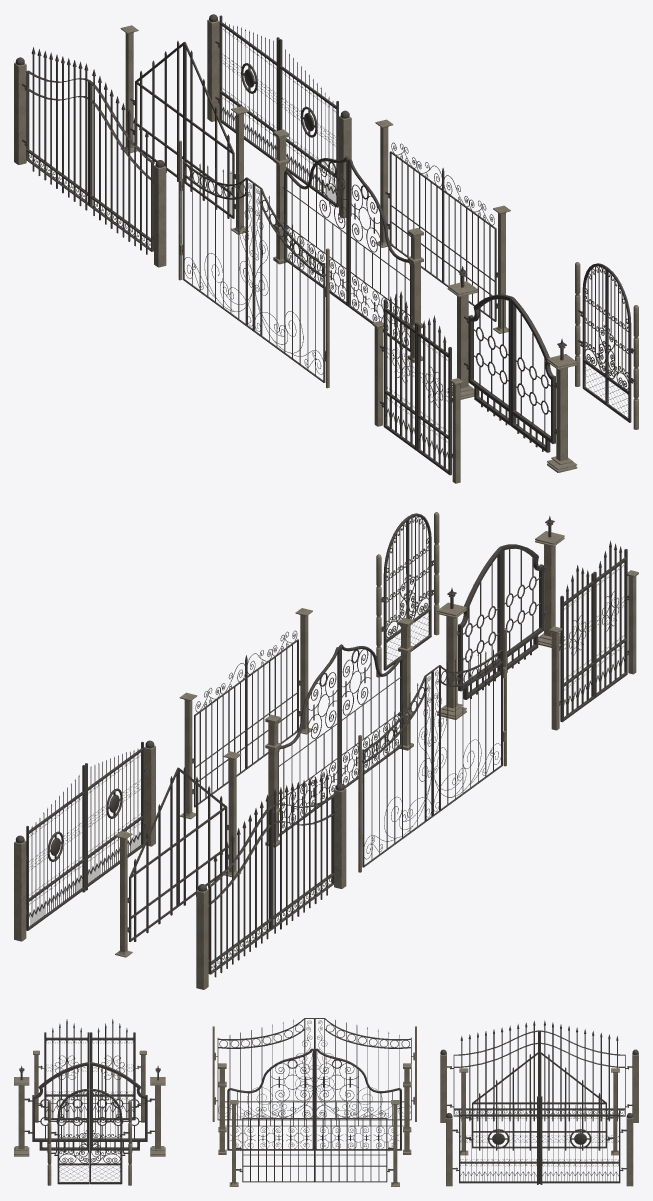
Rendered from gate.glb.
3 views of the same model, one above another, from view 1: azimuth 30°, elevation 25°; view 2: azimuth 150°, elevation 25°; view 3: azimuth 270°, elevation 25° (orthographic). The views are drawn at different scales.
Visible parts, largest first — view 1: Gate_8_1, Gate_8_2, Gate_7_1, Gate_7_2, Gate_6_1, Gate_9_1, Gate_6_2, Gate_9_2, Gate_1_1, Gate_1_2, Gate_3_1, Gate_3_2 (+22 smaller); view 2: Gate_8_2, Gate_8_1, Gate_6_2, Gate_7_2, Gate_6_1, Gate_9_2, Gate_7_1, Gate_9_1, Gate_1_2, Gate_1_1, Gate_3_2, Gate_2_2 (+22 smaller); view 3: Gate_6_2, Gate_6_1, Gate_8_1, Gate_8_2, Gate_1_1, Gate_1_2, Gate_7_1, Gate_7_2, Gate_5_2, Gate_9_1, Gate_9_2, Gate_4_1 (+23 smaller).
Part boxes in pixels (x1=…): Gate_8_1: x1=89, y1=69, x2=153, y2=254; Gate_8_2: x1=24, y1=47, x2=90, y2=210; Gate_7_1: x1=253, y1=183, x2=325, y2=382; Gate_7_2: x1=181, y1=160, x2=254, y2=330; Gate_6_1: x1=278, y1=39, x2=338, y2=207; Gate_9_1: x1=417, y1=315, x2=452, y2=475; Gate_6_2: x1=218, y1=15, x2=279, y2=160; Gate_9_2: x1=381, y1=291, x2=418, y2=450; Gate_1_1: x1=347, y1=159, x2=410, y2=351; Gate_1_2: x1=283, y1=156, x2=348, y2=305; Gate_3_1: x1=511, y1=298, x2=556, y2=452; Gate_3_2: x1=466, y1=294, x2=513, y2=425; Gate_8_2: x1=208, y1=794, x2=272, y2=977; Gate_8_1: x1=270, y1=772, x2=335, y2=933; Gate_6_2: x1=26, y1=765, x2=85, y2=930; Gate_7_2: x1=362, y1=670, x2=433, y2=867; Gate_6_1: x1=85, y1=741, x2=145, y2=890; Gate_9_2: x1=559, y1=565, x2=594, y2=722; Gate_7_1: x1=432, y1=647, x2=503, y2=816; Gate_9_1: x1=593, y1=540, x2=629, y2=698; Gate_1_2: x1=278, y1=647, x2=340, y2=837; Gate_1_1: x1=339, y1=644, x2=404, y2=788; Gate_3_2: x1=457, y1=547, x2=502, y2=699; Gate_2_2: x1=127, y1=767, x2=178, y2=941; Gate_6_2: x1=539, y1=1096, x2=623, y2=1184; Gate_6_1: x1=456, y1=1096, x2=539, y2=1184; Gate_8_1: x1=450, y1=1021, x2=539, y2=1121; Gate_8_2: x1=539, y1=1020, x2=628, y2=1121; Gate_1_1: x1=225, y1=1048, x2=314, y2=1150; Gate_1_2: x1=314, y1=1048, x2=404, y2=1150; Gate_7_1: x1=216, y1=1018, x2=314, y2=1120; Gate_7_2: x1=314, y1=1018, x2=413, y2=1120; Gate_5_2: x1=314, y1=1103, x2=389, y2=1182; Gate_9_1: x1=40, y1=1019, x2=89, y2=1120; Gate_9_2: x1=90, y1=1019, x2=138, y2=1120; Gate_4_1: x1=54, y1=1088, x2=89, y2=1184.
Size of the model in its own units: 4.22 by 3.08 by 16.68.
1 material, 1 textured.
